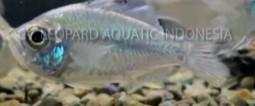Glass Perchlet: (8, 2, 228, 88)
